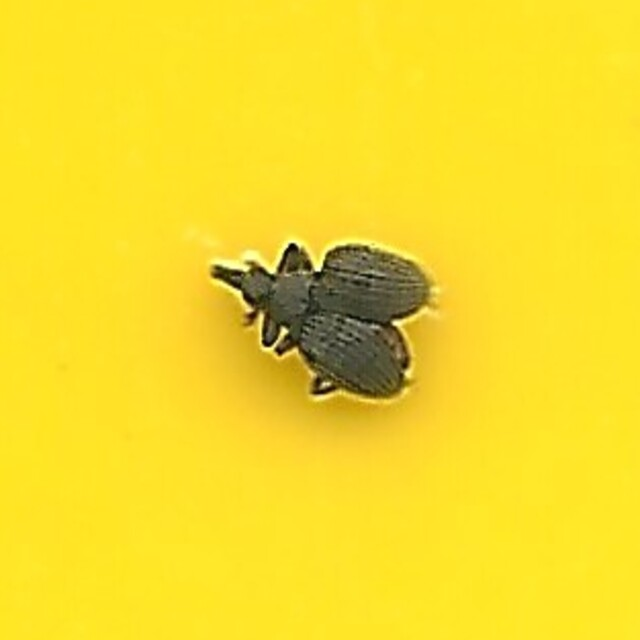Coleoptera: (204, 236, 436, 404)
